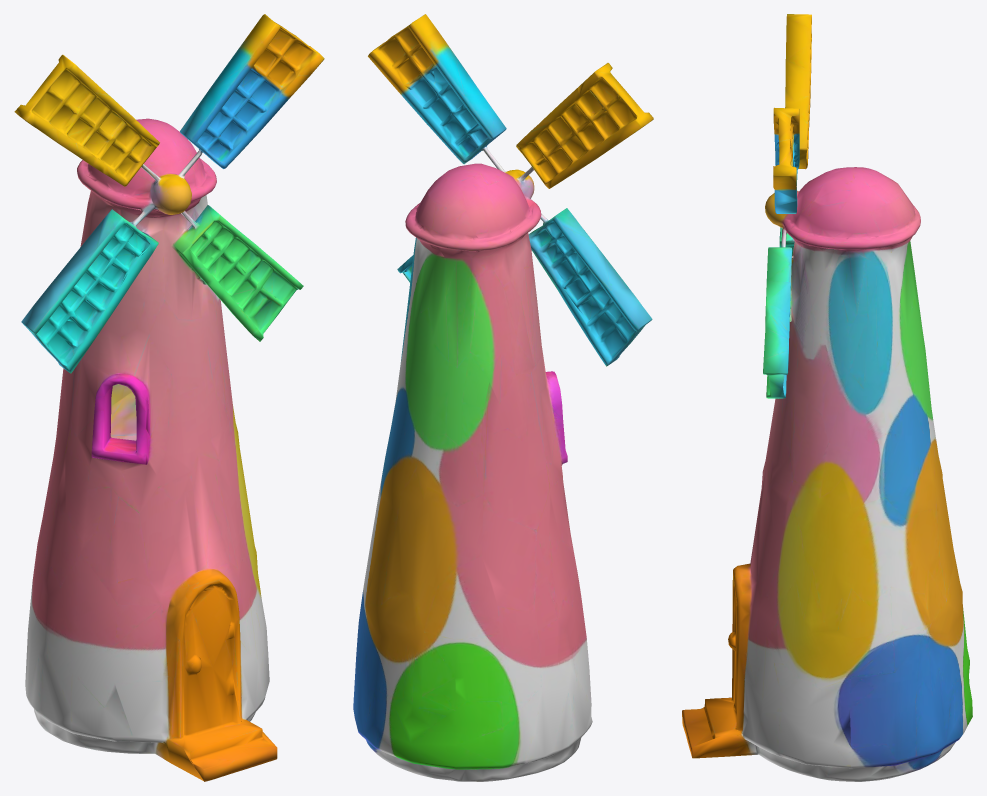
Rendered from clay-windmill.glb.
3 renders of one model, left to right at view 1: azimuth 30°, elevation 25°; view 2: azimuth 150°, elevation 25°; view 3: azimuth 270°, elevation 25°, orthographic. The views are drawn at different scales.
Bounding box in the file's own units: 0.8363 × 1.91 × 0.7486.
Materials: 1 (1 with a texture image).
